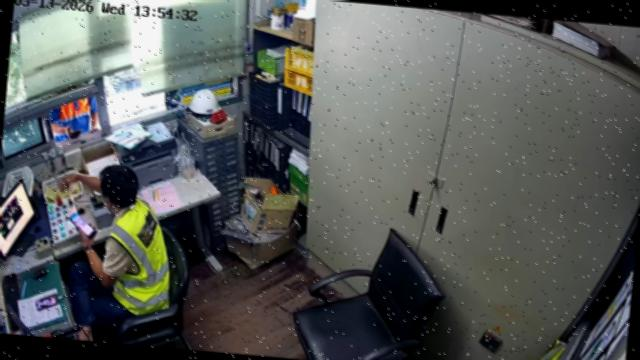Head: (98, 165, 140, 212)
People: (60, 166, 171, 340)
Phone: (70, 208, 96, 236), (36, 293, 59, 309)
